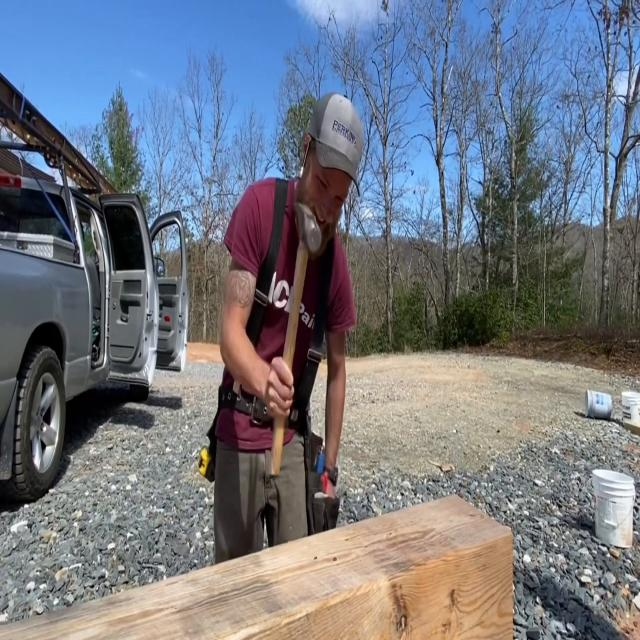hammer: (267, 194, 323, 478)
